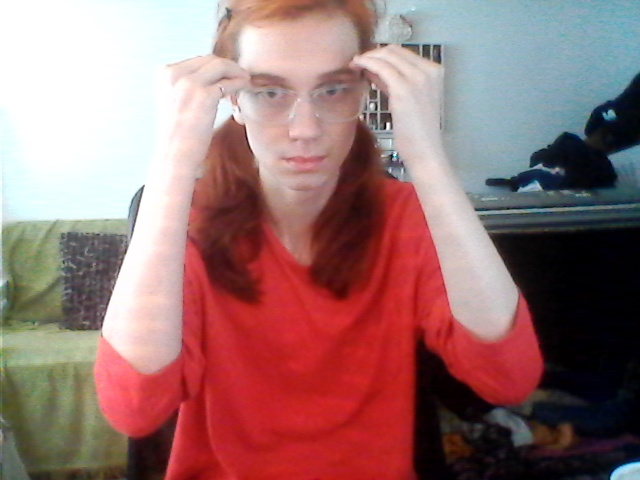ucit: (159, 36, 459, 145)
